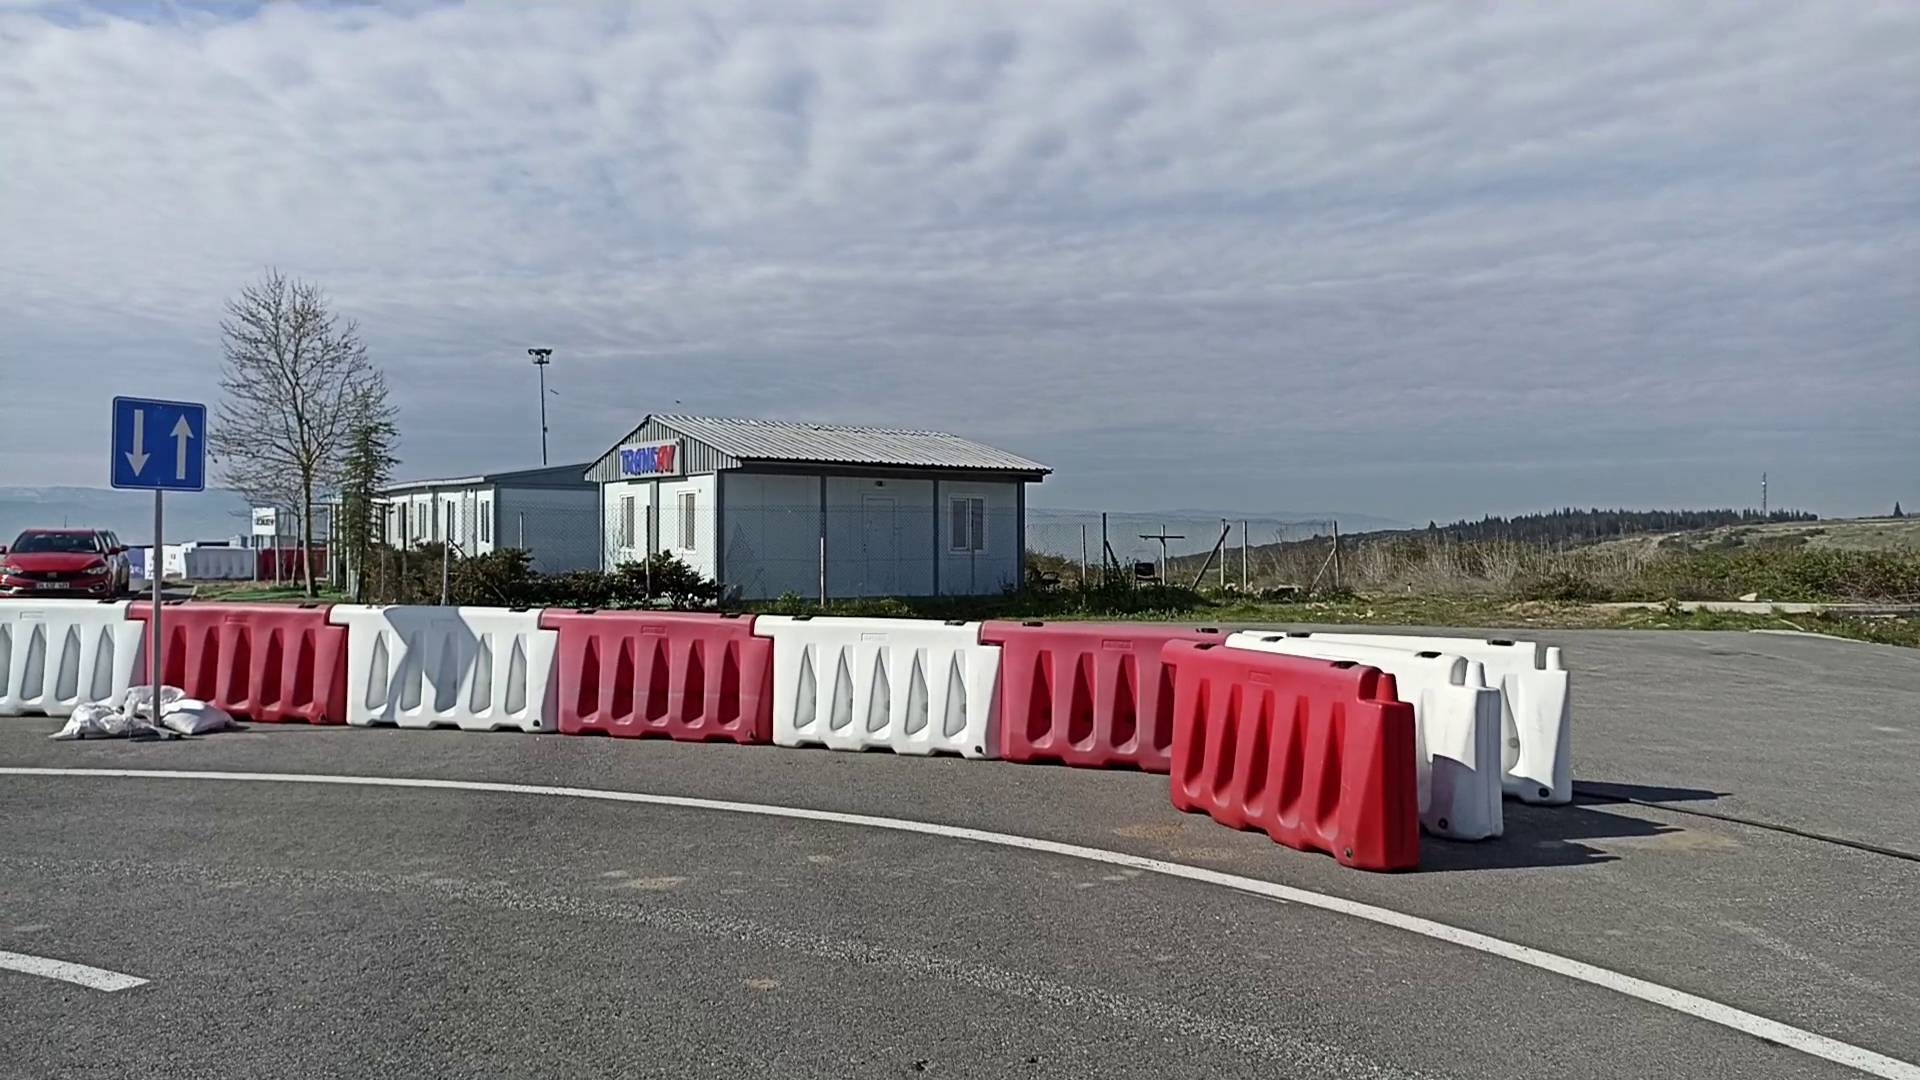oneway: (109, 392, 208, 496)
